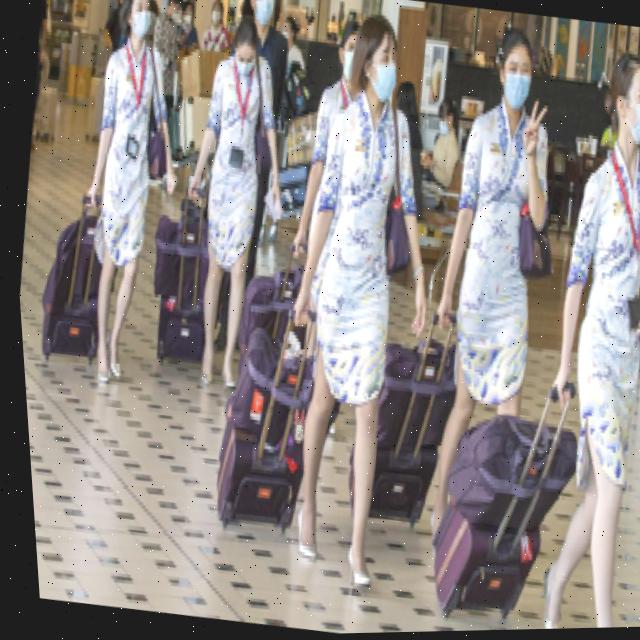Mask: (494, 70, 532, 115), (361, 61, 398, 105), (611, 102, 640, 148), (126, 9, 154, 42), (244, 0, 276, 28), (231, 55, 257, 78), (338, 54, 357, 85)
